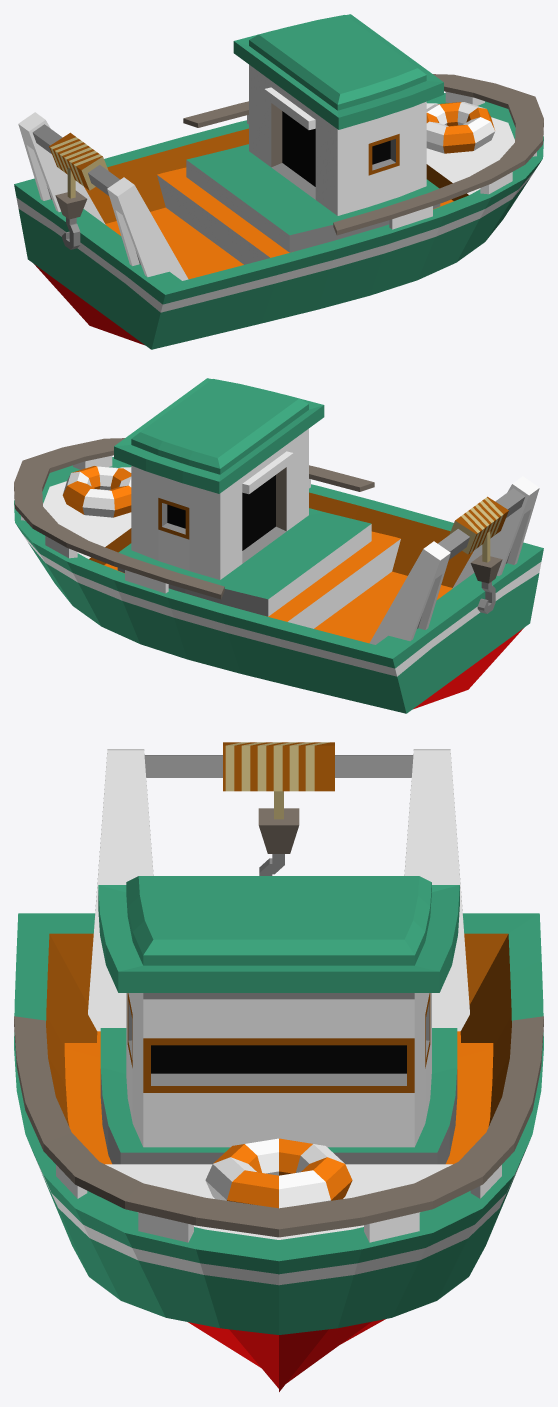
Rendered from low_poly_fishing_boat.glb.
3 renders of one model, top to bottom at view 1: azimuth 30°, elevation 25°; view 2: azimuth 150°, elevation 25°; view 3: azimuth 270°, elevation 25°, orthographic. The views are drawn at different scales.
Parts seen in each view (by area): view 1: FishingBoat; view 2: FishingBoat; view 3: FishingBoat.
Part boxes in pixels (bbox=[...]): FishingBoat: bbox=[14, 14, 543, 349]; FishingBoat: bbox=[14, 378, 543, 713]; FishingBoat: bbox=[14, 742, 543, 1391].
Bounding box in the file's own units: 10.64 × 4.73 × 5.97.
Materials: 1 (1 with a texture image).
